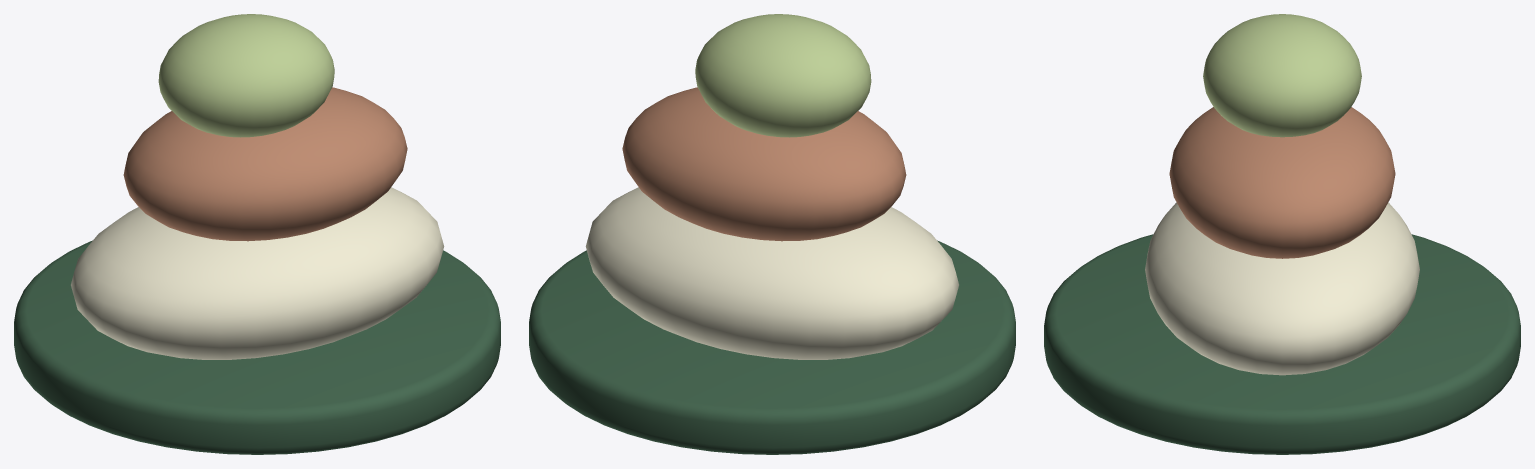
The model's file is balance-stones-green.glb.
The picture shows the model from 3 angles, left to right: view 1: azimuth 30°, elevation 25°; view 2: azimuth 150°, elevation 25°; view 3: azimuth 270°, elevation 25°; orthographic projection. The views are drawn at different scales.
Parts seen in each view (by area): view 1: Plinth, Foundation, Middle, Top; view 2: Plinth, Foundation, Middle, Top; view 3: Plinth, Foundation, Middle, Top.
Part boxes in pixels (box(x1,y1,x2,y2)): Plinth: box(14, 240, 500, 454); Foundation: box(71, 187, 444, 359); Middle: box(123, 87, 407, 241); Top: box(158, 14, 334, 137); Plinth: box(529, 240, 1015, 454); Foundation: box(585, 187, 958, 359); Middle: box(622, 87, 906, 241); Top: box(695, 14, 871, 137); Plinth: box(1044, 234, 1520, 454); Foundation: box(1145, 202, 1419, 375); Middle: box(1169, 107, 1395, 258); Top: box(1203, 14, 1361, 137).
Size of the model in its own units: 1.56 by 1.18 by 1.56.
